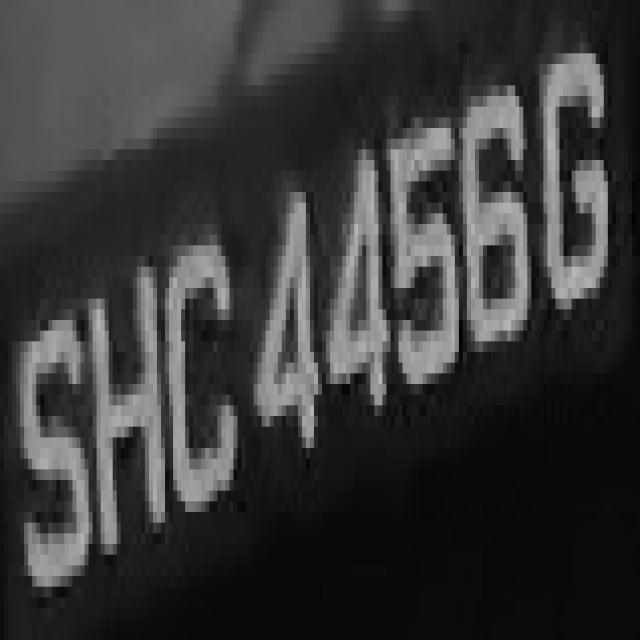4: (314, 117, 394, 459), (246, 181, 330, 480)
5: (394, 86, 467, 406)
6: (455, 75, 543, 352)
C: (157, 202, 250, 554)
G: (535, 11, 616, 352)
H: (89, 245, 161, 566)
S: (16, 267, 93, 597)
